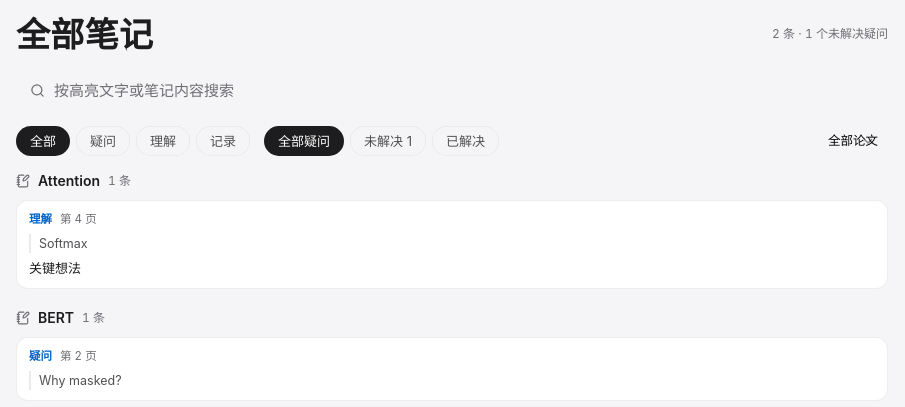
Test: NotesView › filters by paper
This screenshot has width=905, height=407.
Select "BERT" in the dropdown named "按论文筛选" at (854, 141), box [819,126,888,156]
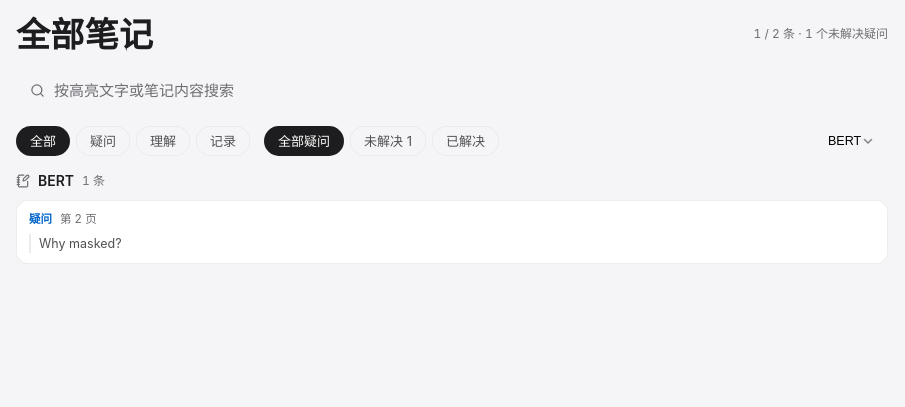
Expected: the text "Why masked?" is shown, [29,234,122,253]
Expected: the button "关键想法" is gone
